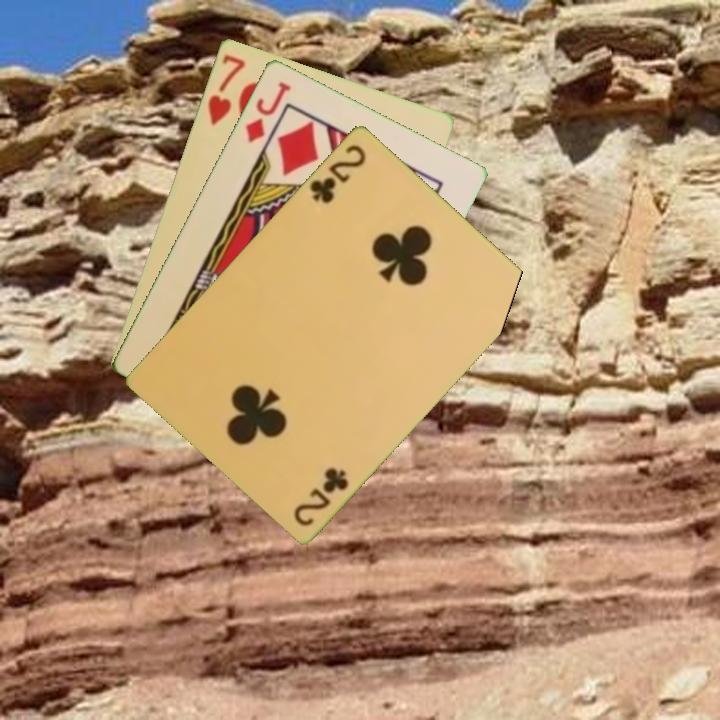2c: (306, 140, 369, 206), (290, 463, 351, 529)
7h: (204, 50, 248, 128)
Jd: (241, 77, 293, 145)
